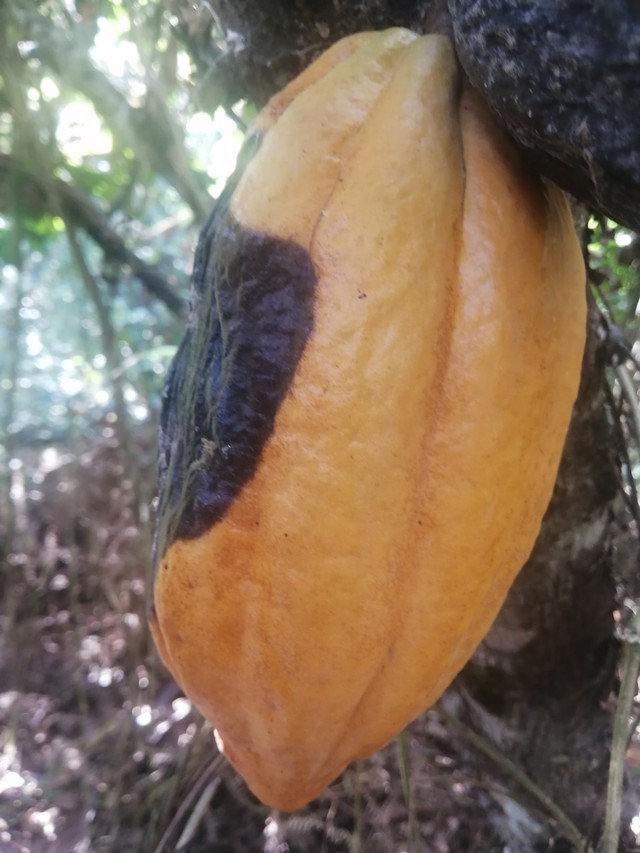moniliophthora roreri: (114, 9, 600, 824)
